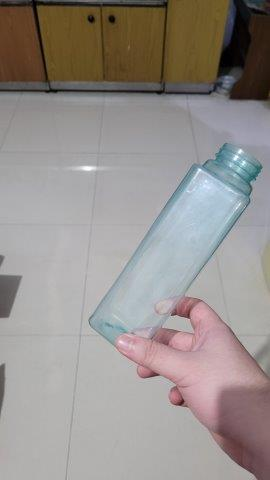botolplastik: (86, 143, 262, 354)
